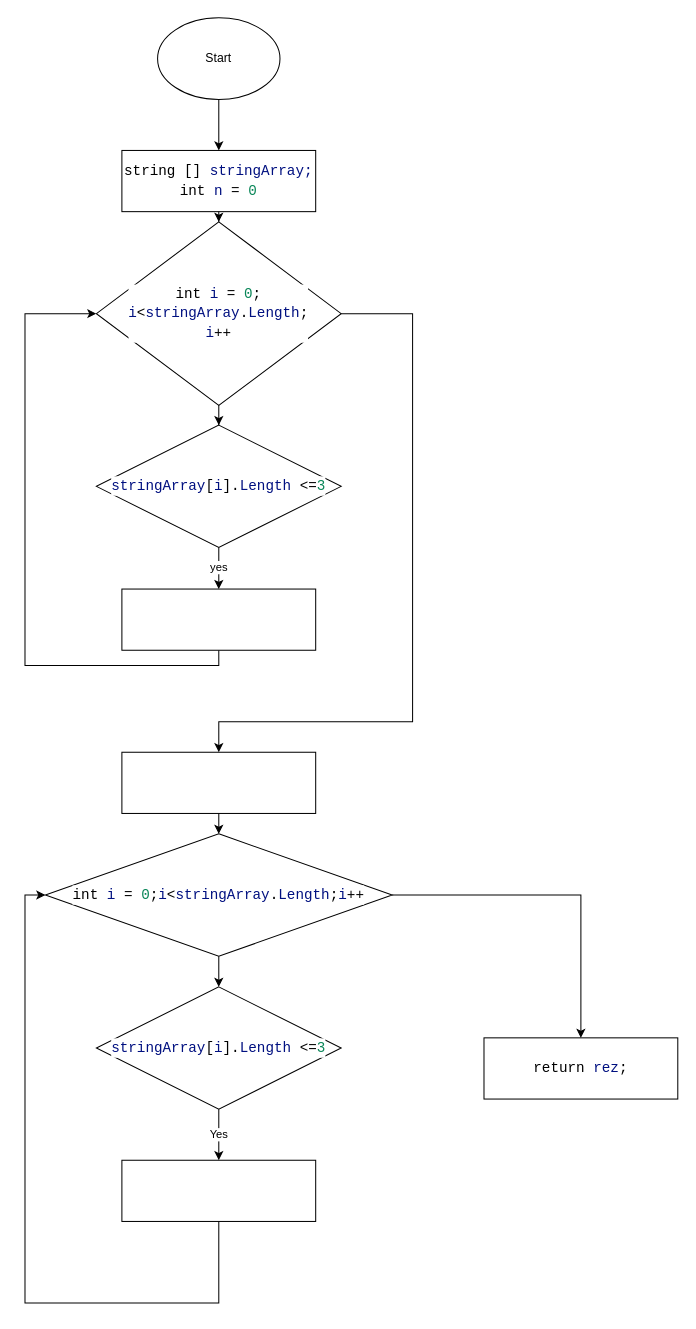
This 696x1329 diagram has some shape labels left out. The centre of each missing label's shape, as x and y in pixels:
"n++" goes at (x=218, y=619).
"rez[ j ] = stringArray [ i ]; j ++;" goes at (x=218, y=1190).
"string [] rez = new string [ n ]; int j = 0 ;" goes at (x=218, y=782).
